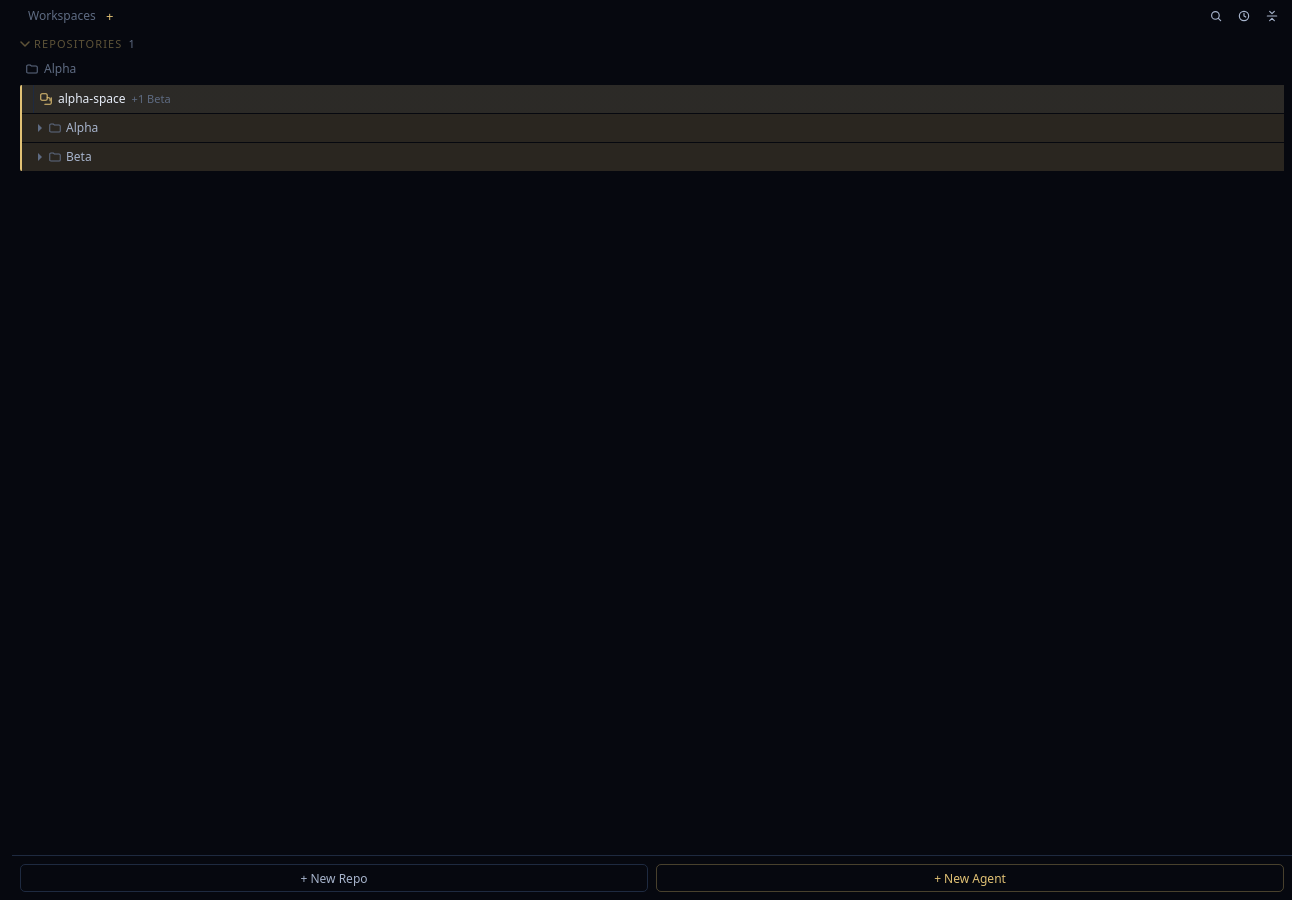
WorkspaceRepoRow context menu › does not also open the workspace card menu
Right-click the 2nd text "Alpha".
right_click(82, 128)  # box [66,120,98,136]
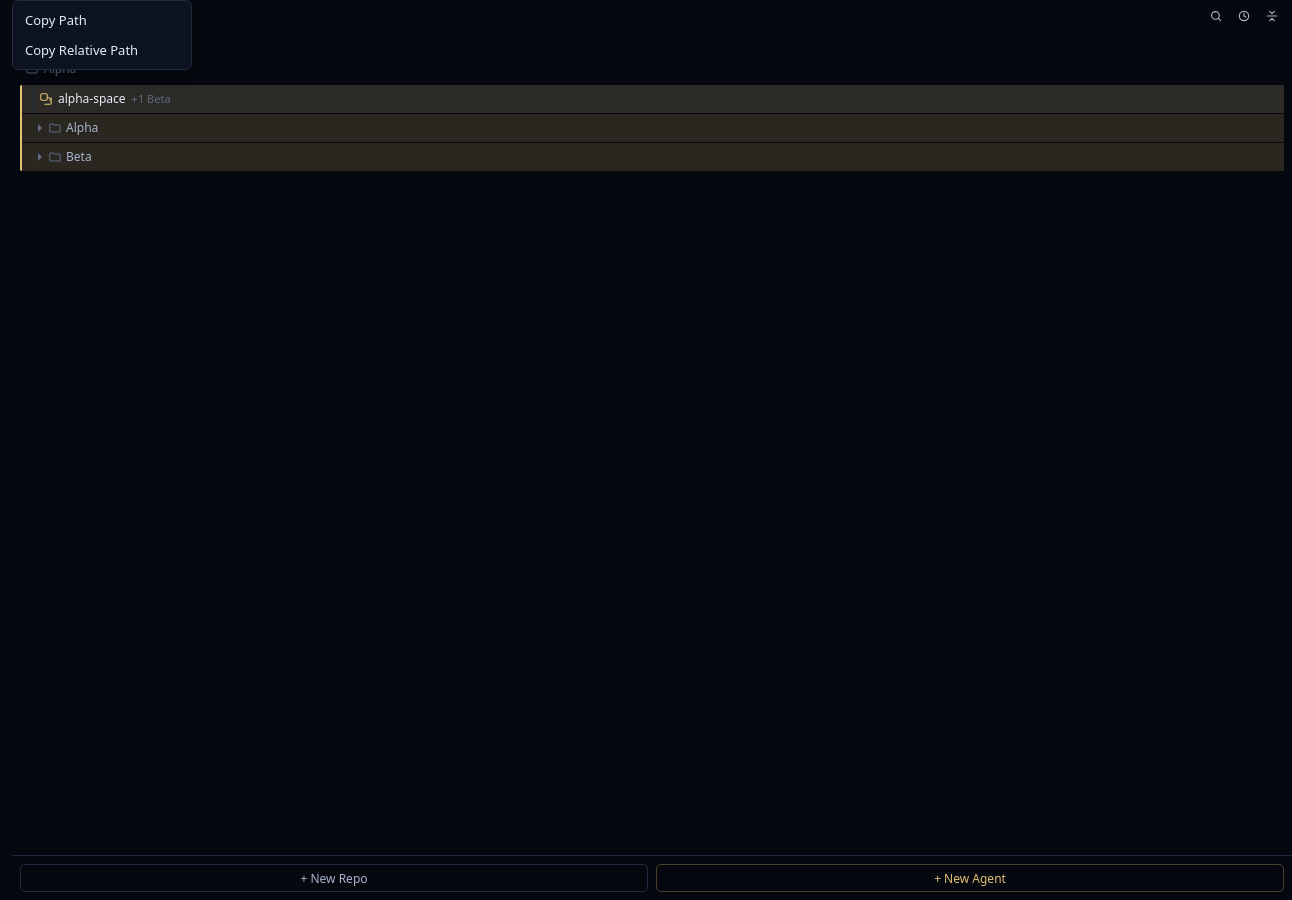
Now the text "Copy Path" is shown, box [25,11,87,29]
